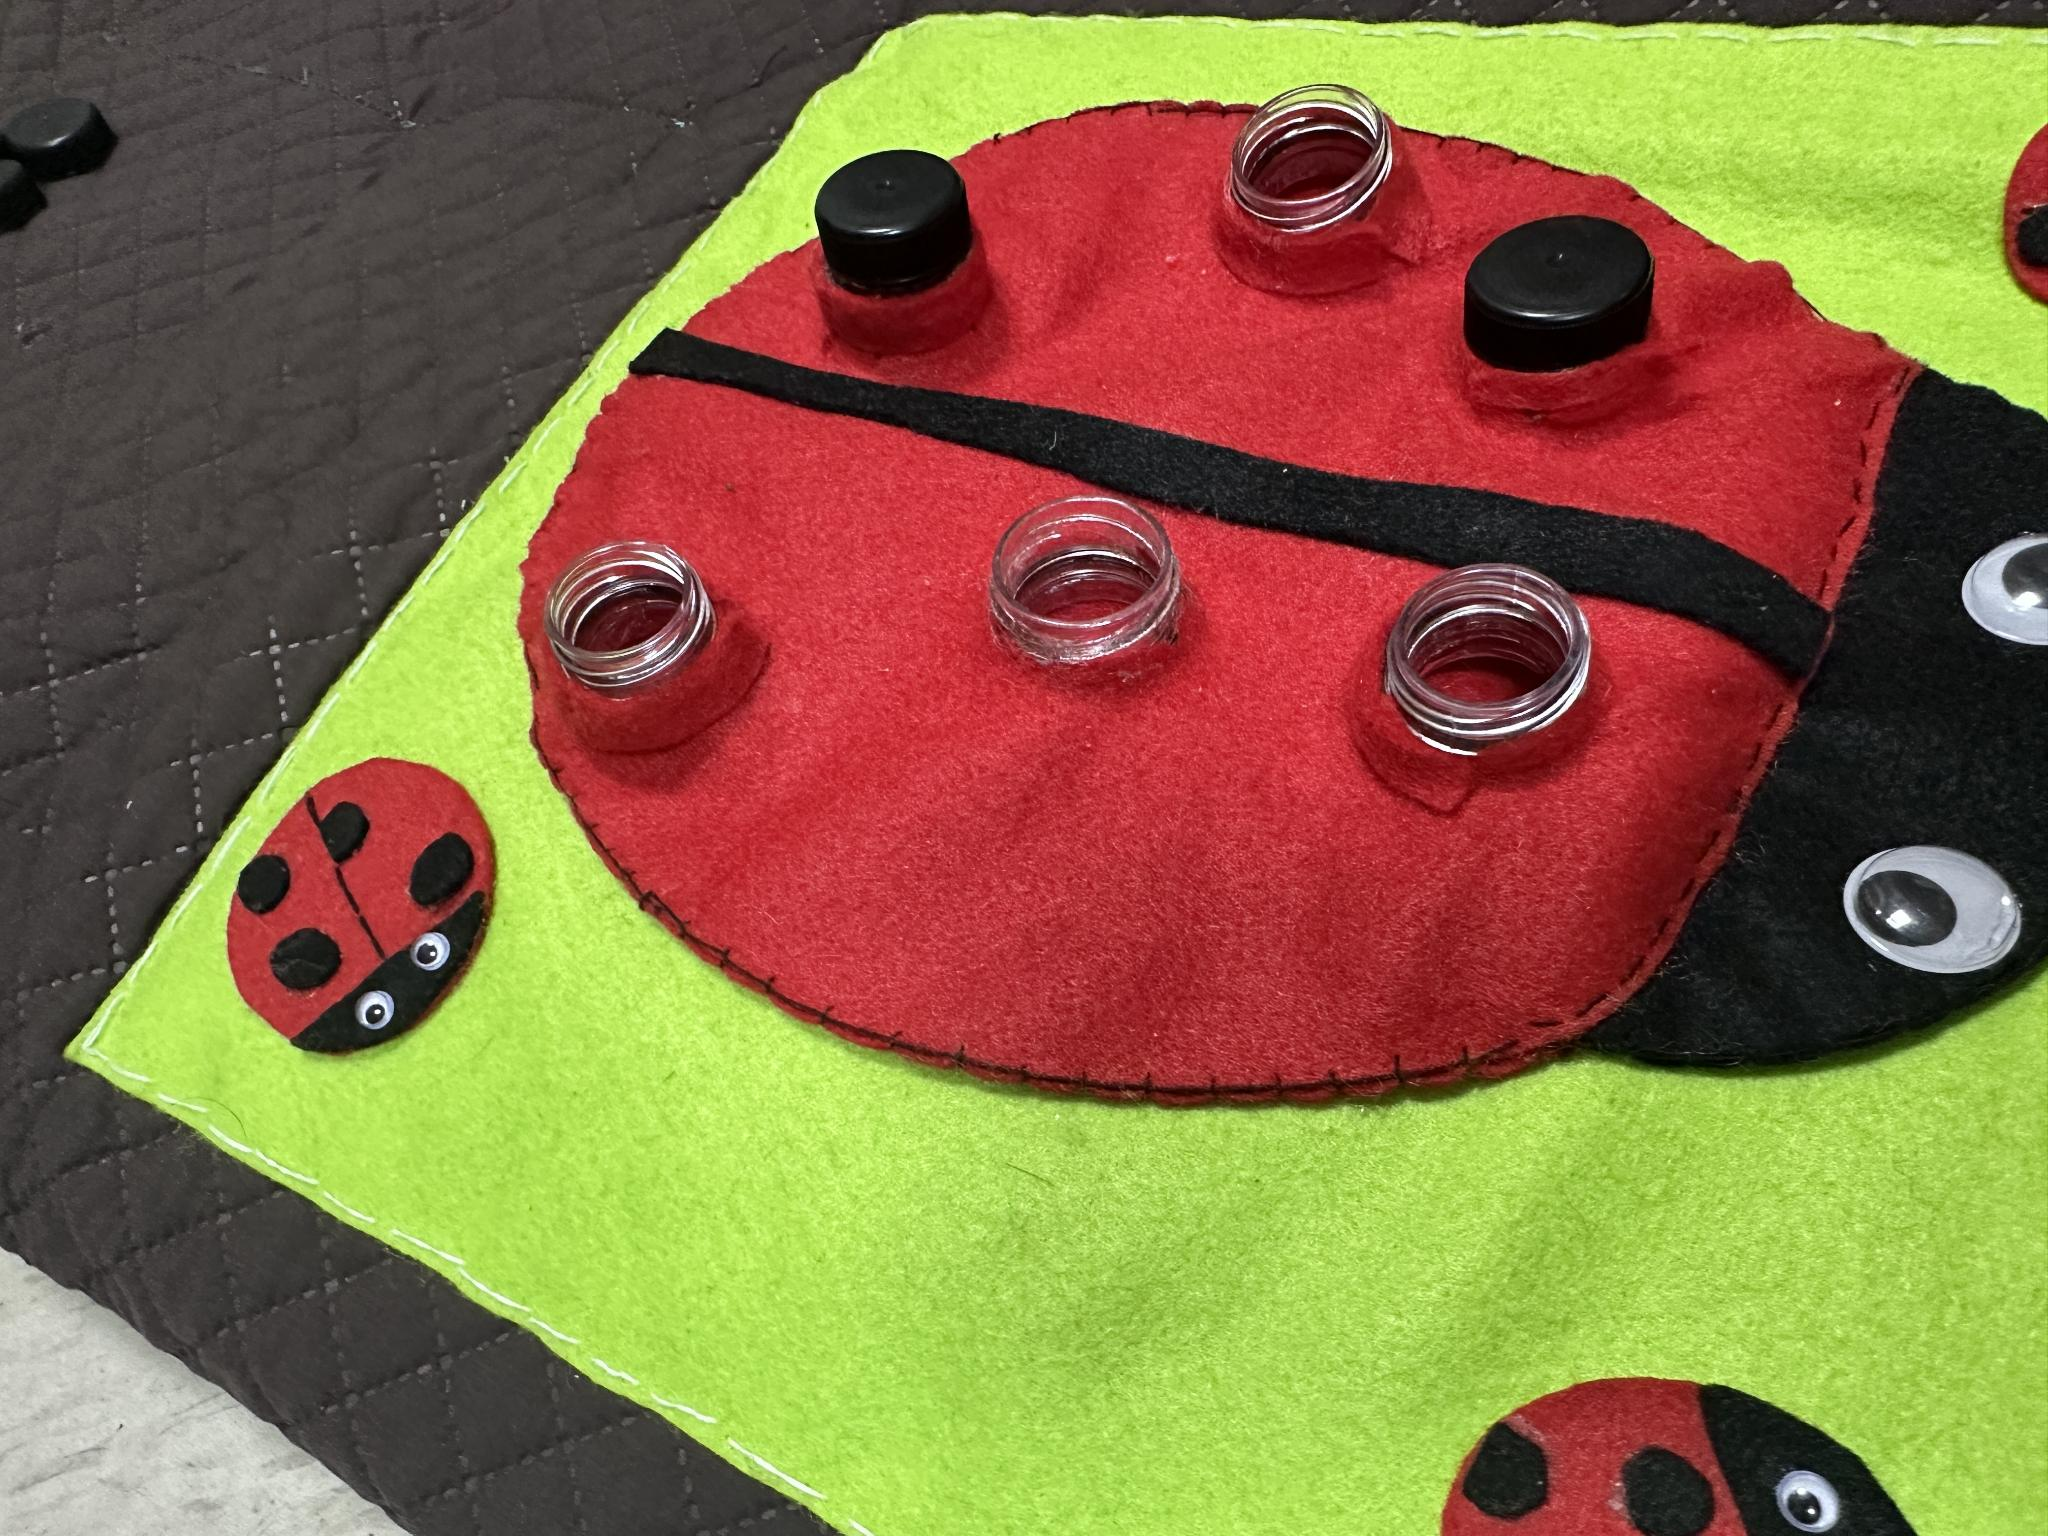cap_ok: (1440, 190, 1687, 439), (800, 145, 1009, 360)
